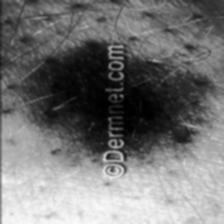Potentially Malignant Skin Tumors: (44, 55, 202, 152)
